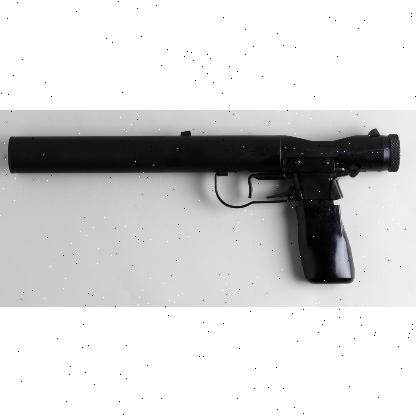gun: (6, 127, 400, 284)
